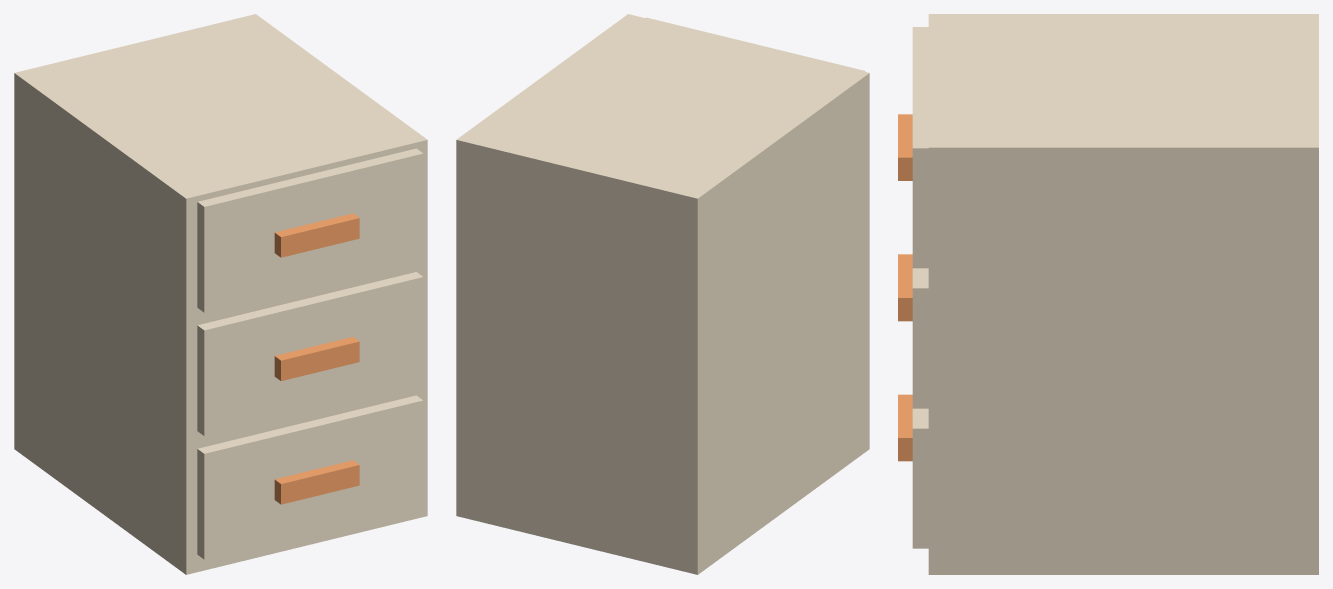
The picture shows the model from 3 angles, left to right: view 1: azimuth 30°, elevation 25°; view 2: azimuth 150°, elevation 25°; view 3: azimuth 270°, elevation 25°; orthographic projection. The views are drawn at different scales.
Visible parts, largest first — view 1: Cabinet; view 2: Cabinet; view 3: Cabinet.
Part boxes in pixels (x1,y1,x2,y2): Cabinet: (14,14,427,574); Cabinet: (456,14,869,574); Cabinet: (898,14,1318,574).
Size of the model in its own units: 0.43 by 0.64 by 0.5715.
1 material, 1 textured.
